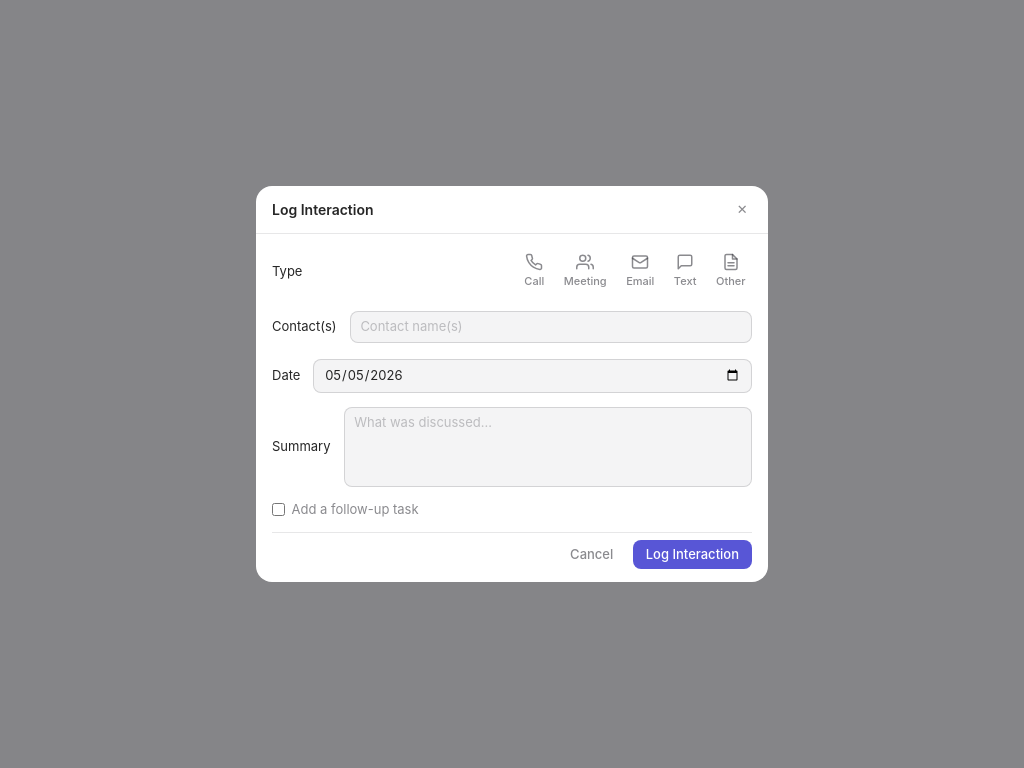
it: shows follow-up fields only when toggle is checked
Expected: the field labelled "task name" is not shown
Note: Check the toggle
Click the checkbox labelled "Add a follow-up task" at (278, 510), box [272, 503, 285, 516]
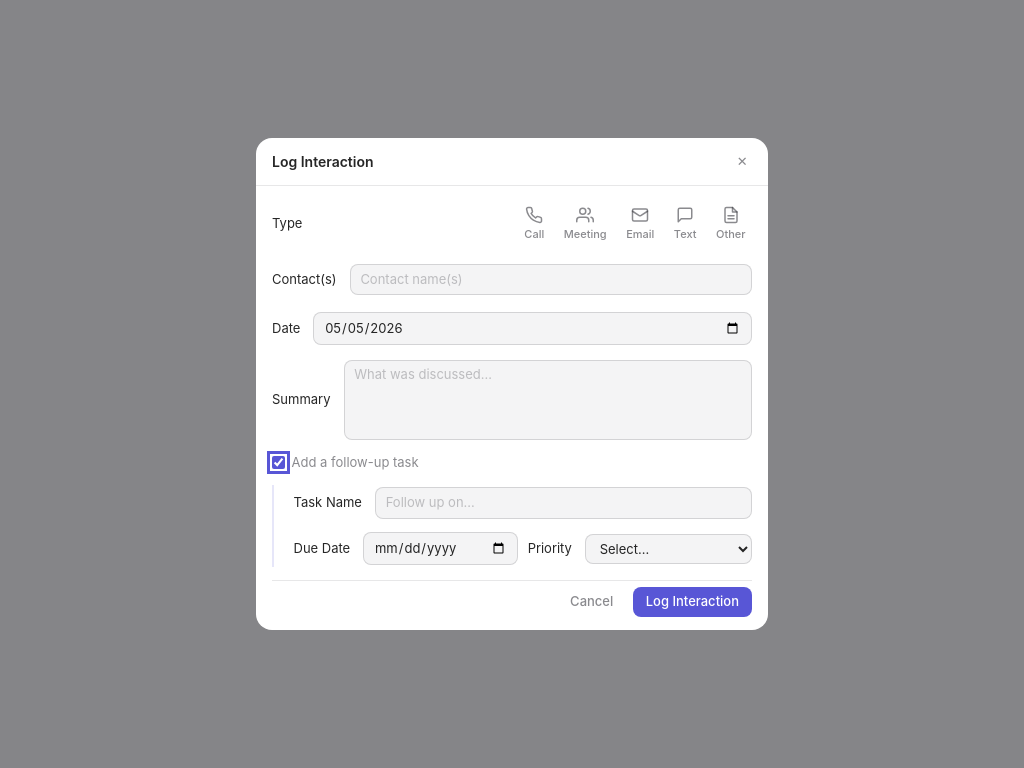
Now the field labelled "Task Name" is shown, box [375, 487, 752, 519]
